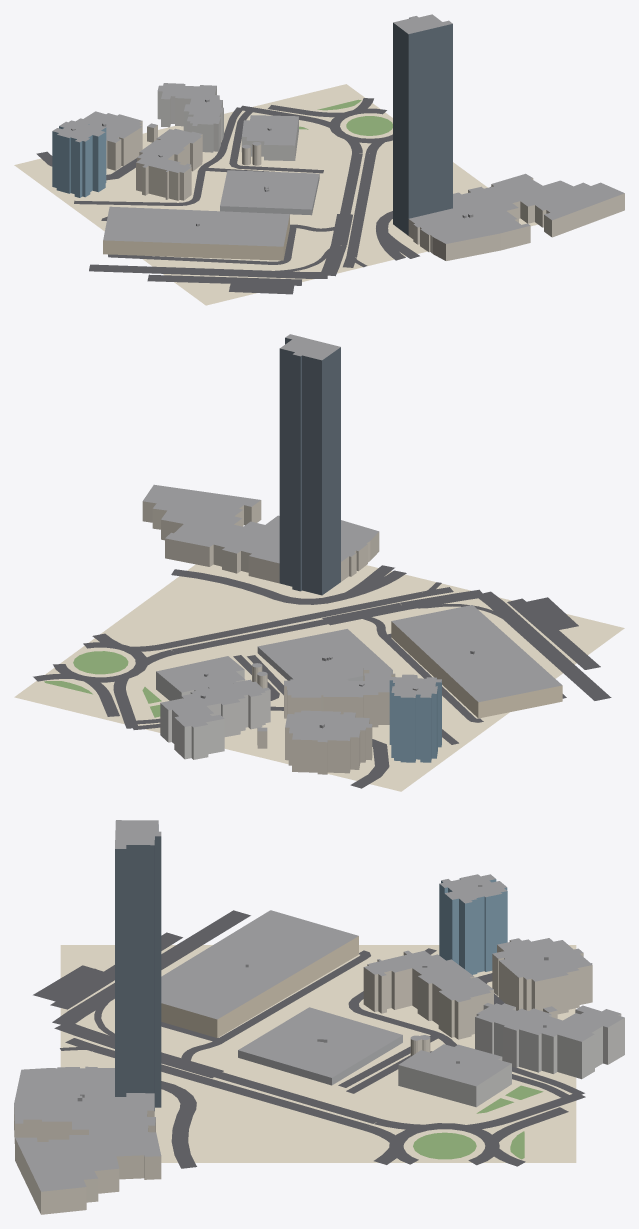
The model's file is tile_-1_5_far.glb.
The picture shows the model from 3 angles, top to bottom: view 1: azimuth 30°, elevation 25°; view 2: azimuth 150°, elevation 25°; view 3: azimuth 270°, elevation 25°; orthographic projection. The views are drawn at different scales.
Visible parts, largest first — view 1: buildings_roof, nature_ground, roads_asphalt, buildings_glass_dark, buildings_concrete_warm, buildings_glass_blue, buildings_sandstone, buildings_concrete_light, nature_grass, buildings_industrial; view 2: buildings_roof, nature_ground, roads_asphalt, buildings_glass_dark, buildings_concrete_warm, buildings_concrete_light, buildings_glass_blue, buildings_sandstone, nature_grass; view 3: buildings_roof, nature_ground, roads_asphalt, buildings_concrete_warm, buildings_glass_dark, buildings_concrete_light, buildings_glass_blue, buildings_sandstone, nature_grass, buildings_industrial.
Boxes of the visible parts, x1,y1,x2,y2 form: buildings_roof: (52, 14, 624, 246); nature_ground: (14, 84, 537, 305); roads_asphalt: (36, 98, 490, 294); buildings_glass_dark: (393, 18, 452, 235); buildings_concrete_warm: (106, 121, 624, 260); buildings_glass_blue: (52, 124, 106, 197); buildings_sandstone: (103, 215, 289, 260); buildings_concrete_light: (157, 85, 298, 160); nature_grass: (299, 99, 392, 135); buildings_industrial: (220, 174, 319, 215); buildings_roof: (143, 334, 562, 742); nature_ground: (14, 564, 624, 791); roads_asphalt: (33, 565, 611, 788); buildings_glass_dark: (279, 337, 340, 595); buildings_concrete_warm: (142, 500, 395, 774); buildings_concrete_light: (156, 669, 270, 759); buildings_glass_blue: (389, 676, 441, 762); buildings_sandstone: (391, 621, 562, 718); nature_grass: (44, 651, 161, 717); buildings_roof: (14, 820, 624, 1191); nature_ground: (60, 945, 576, 1162); roads_asphalt: (33, 910, 592, 1168); buildings_concrete_warm: (14, 940, 592, 1214); buildings_glass_dark: (115, 824, 161, 1110); buildings_concrete_light: (398, 1005, 624, 1107); buildings_glass_blue: (439, 878, 507, 974); buildings_sandstone: (161, 936, 358, 1037); nature_grass: (413, 1085, 543, 1159); buildings_industrial: (238, 1035, 402, 1085).
Bounding box in the file's own units: 349 × 145 × 296.
